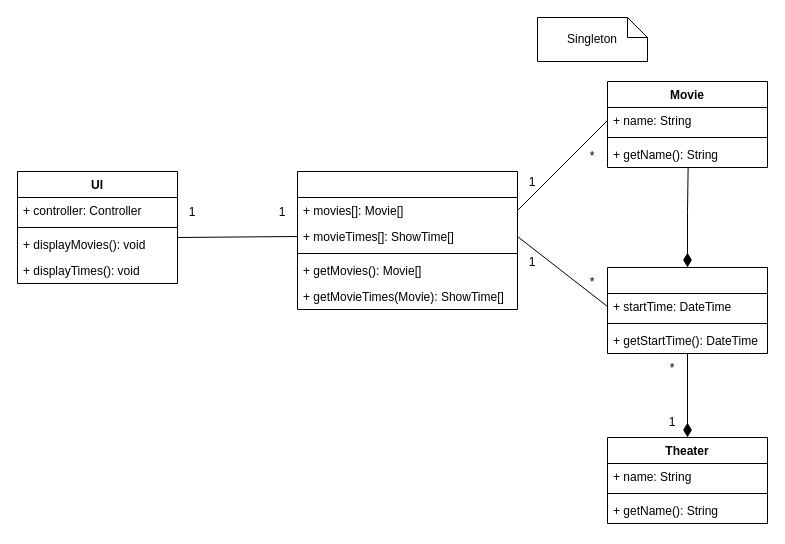
Image size: 785x544. Some labels were removed from this diagram. The box of each missing label's shape, as (x1, y1, x2, y2) in pixels:
Controller: (296, 170, 518, 310)
ShowTime: (606, 266, 768, 354)
